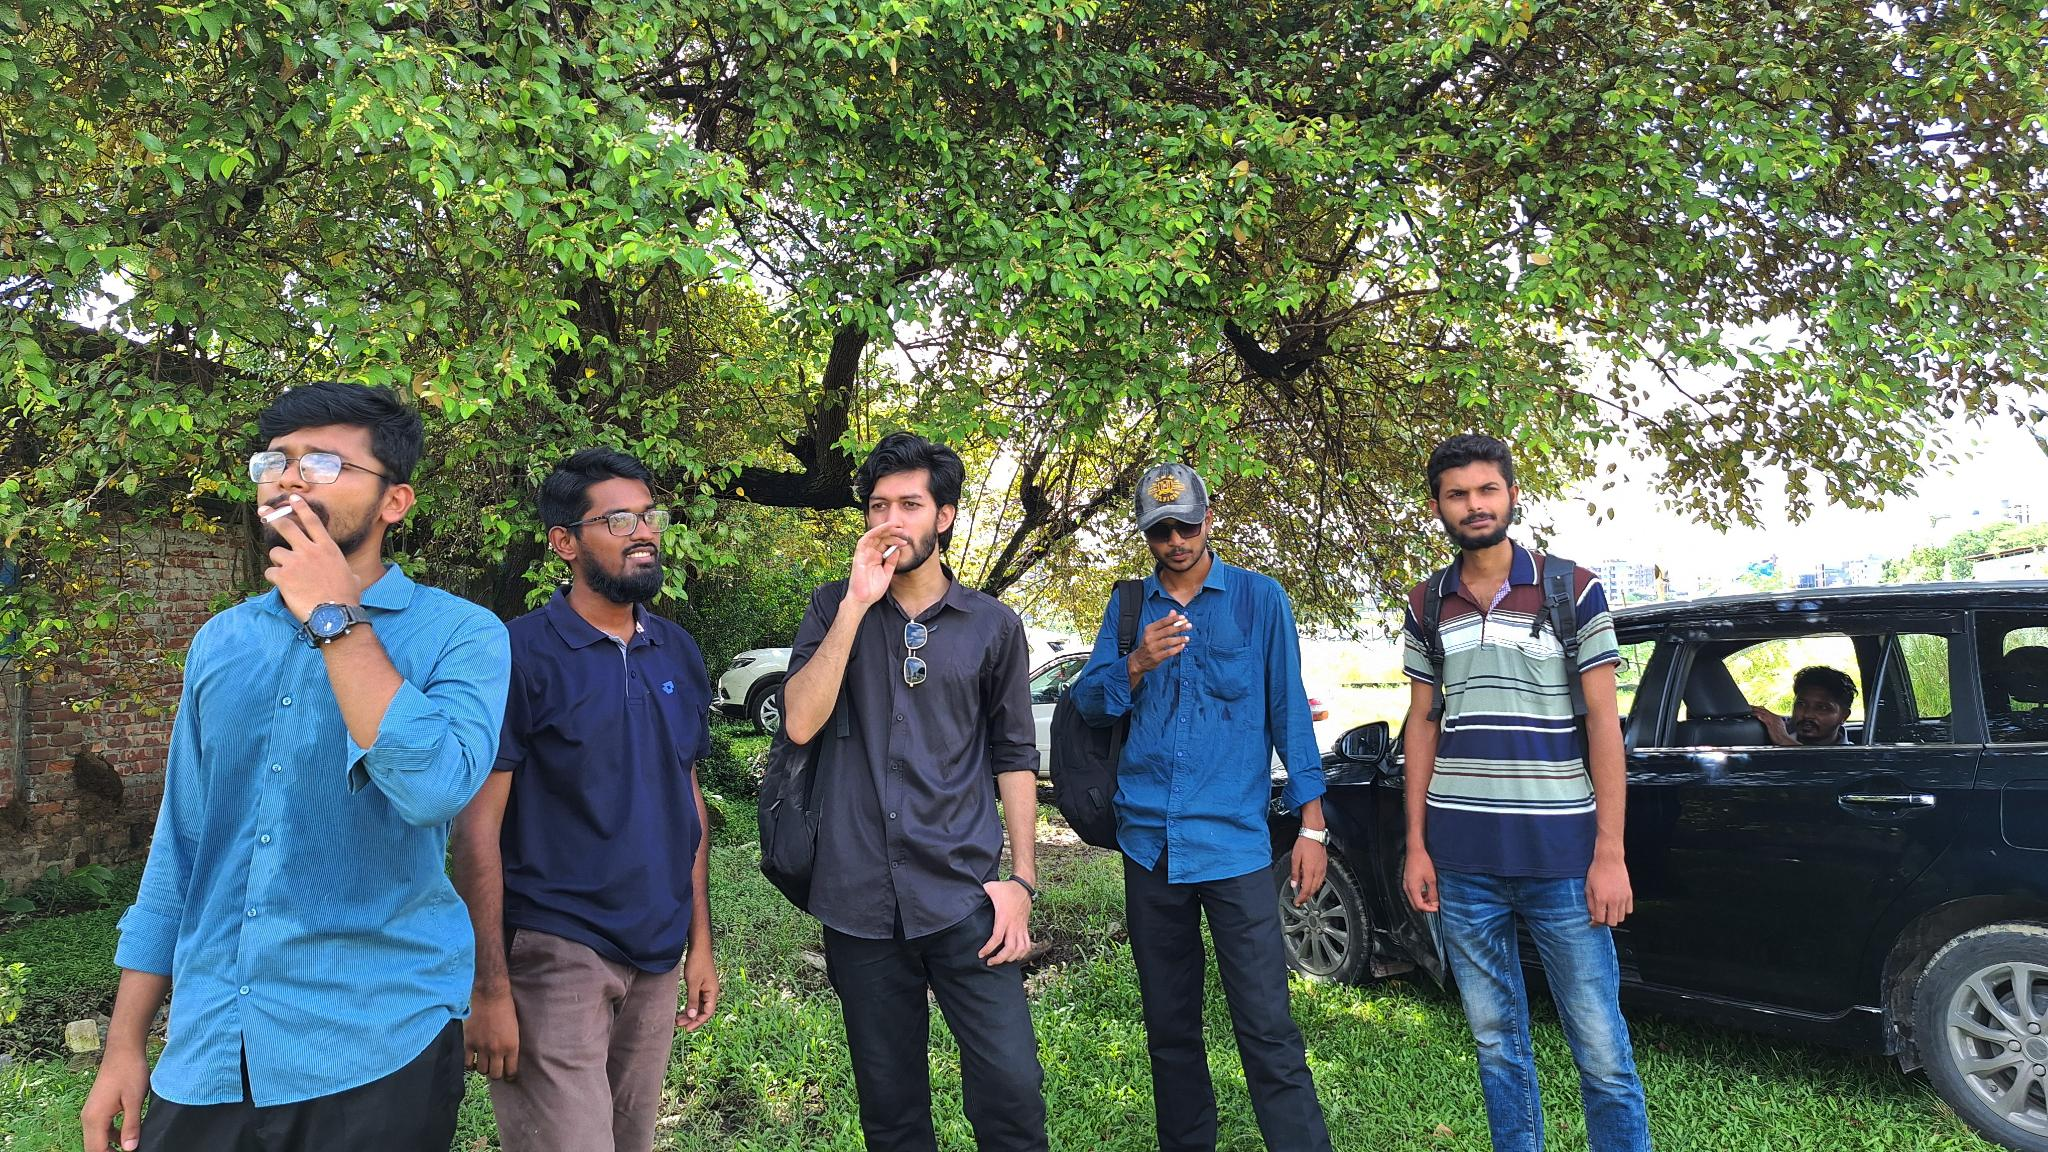cigarette: (259, 504, 298, 527), (879, 543, 899, 560), (1170, 617, 1190, 629)
nonSmoker: (461, 444, 720, 1152), (1402, 432, 1654, 1152)
smoker: (80, 383, 511, 1152), (757, 430, 1048, 1152), (1051, 461, 1335, 1152)
